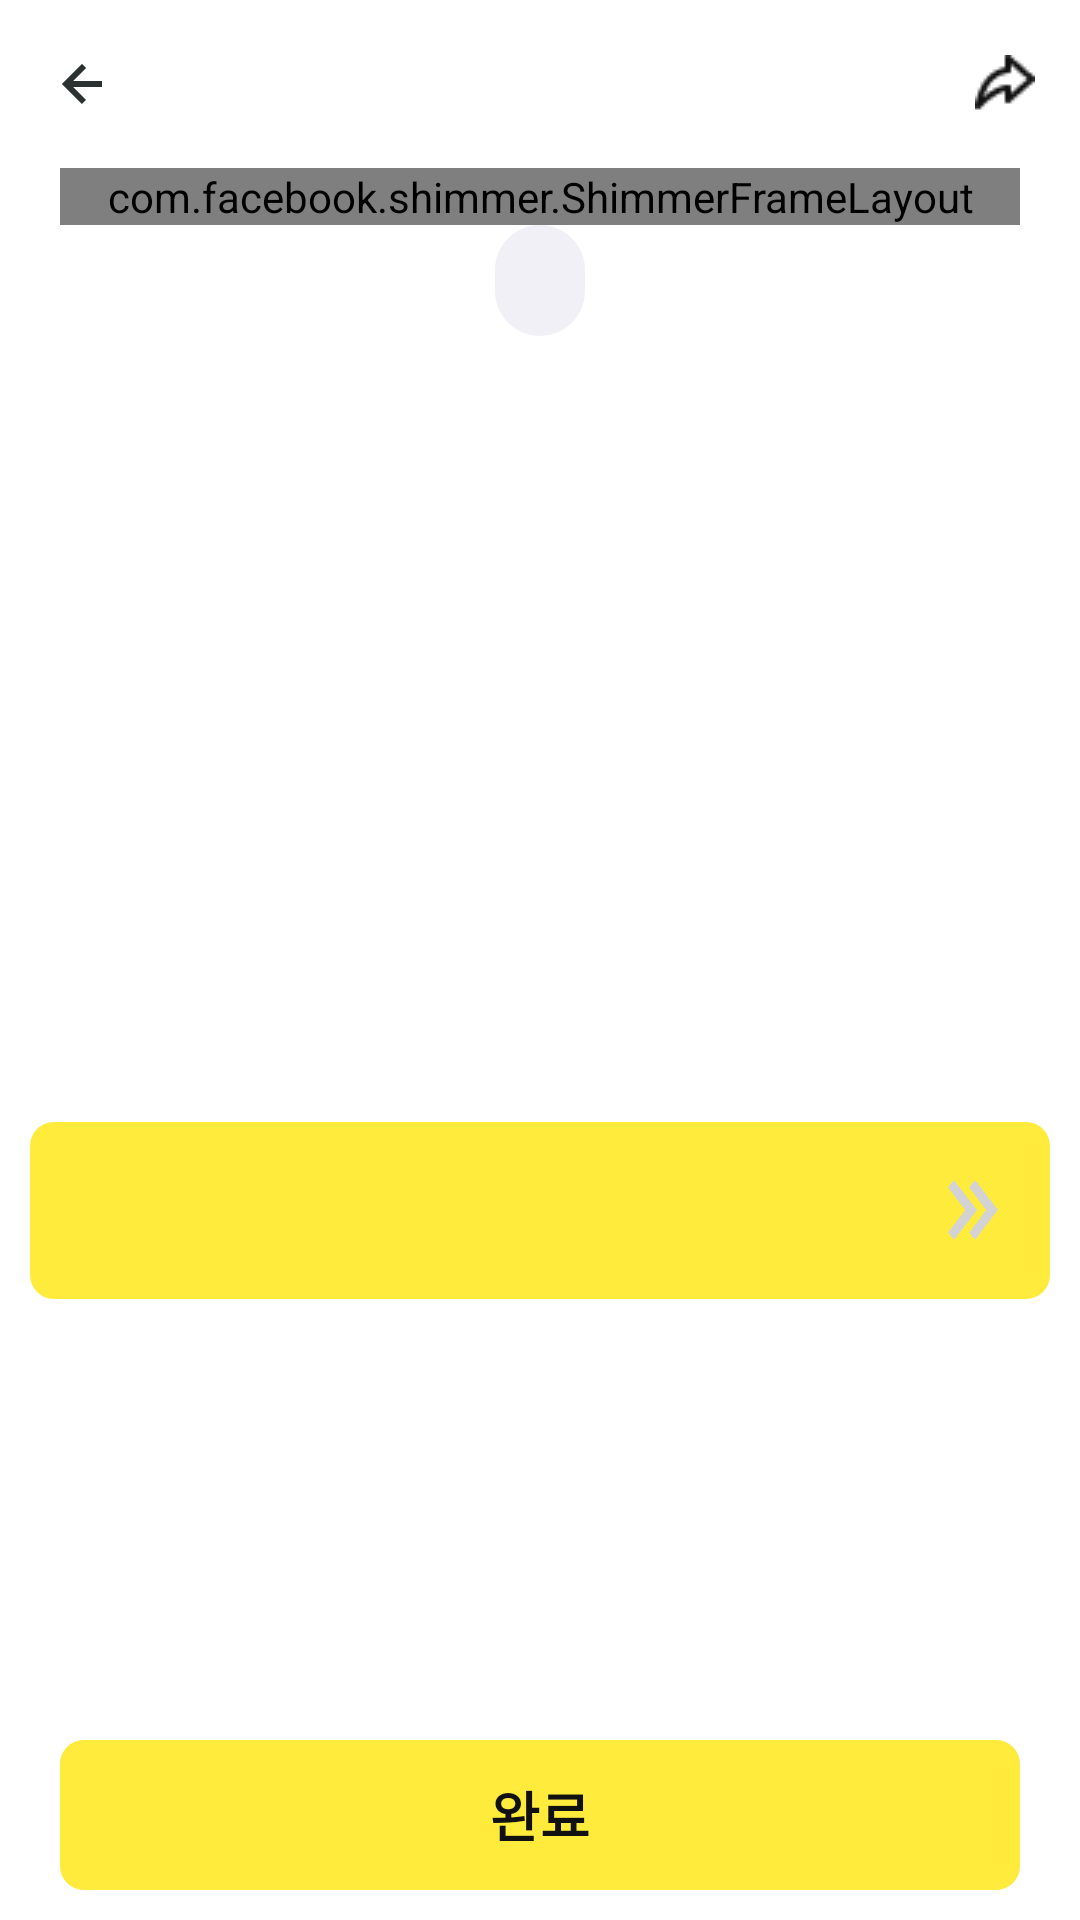

Named icons in this screenshot (1080×1920) and their centers, point (x, y):
back: point (82, 84)
direction: point (973, 1210)
